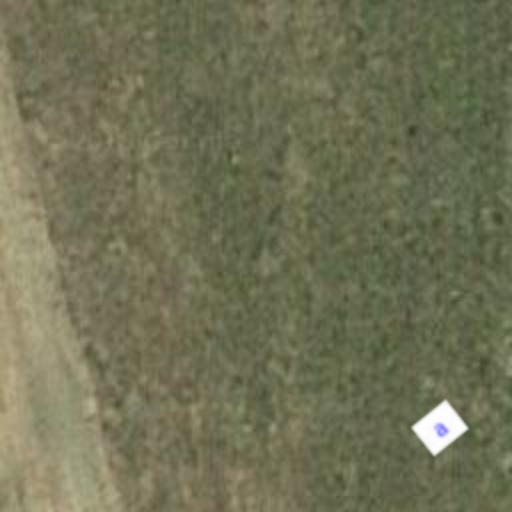rectangle: (408, 396, 472, 460)
